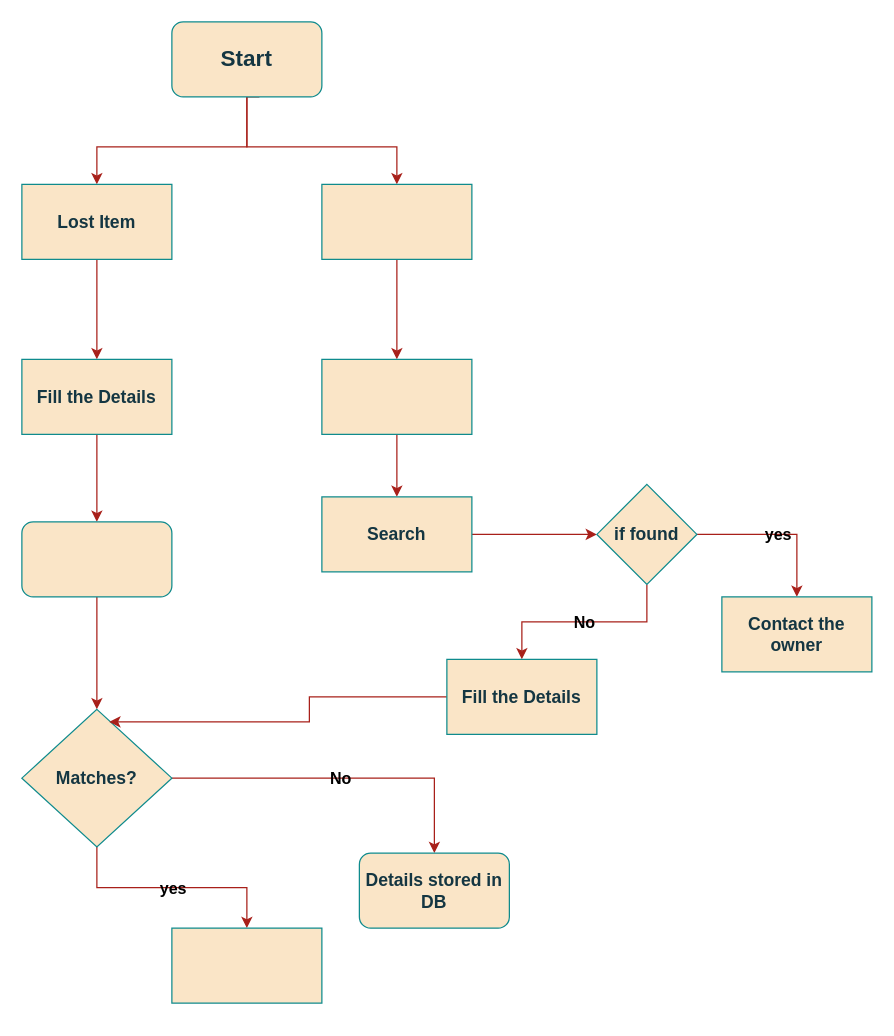
This 894x1036 diagram has some shape labels left out. Here are the shapes that lost their labels. From the top down, the centre of each, then its label:
At point (396, 221): "Found item".
At point (396, 396): "Help us find".
At point (96, 559): "Shows similar items".
At point (246, 965): "Contact the person who found the item".
